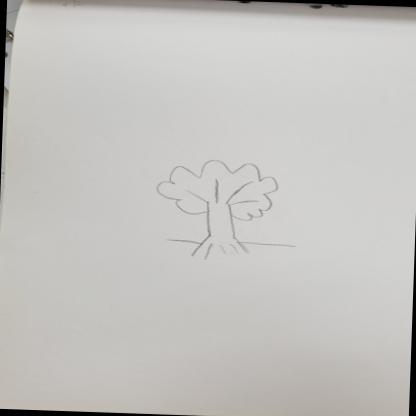branch_line: (184, 178, 262, 209)
crown_cloud: (157, 157, 278, 222)
root_upside: (185, 234, 256, 264)
trunk_straight: (204, 216, 240, 237)
